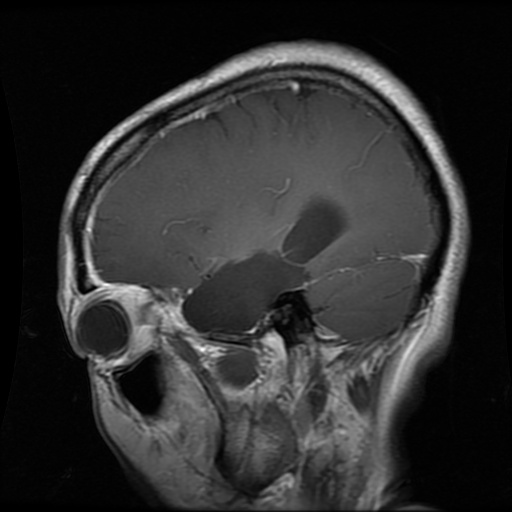glioma: (182, 194, 352, 333)
